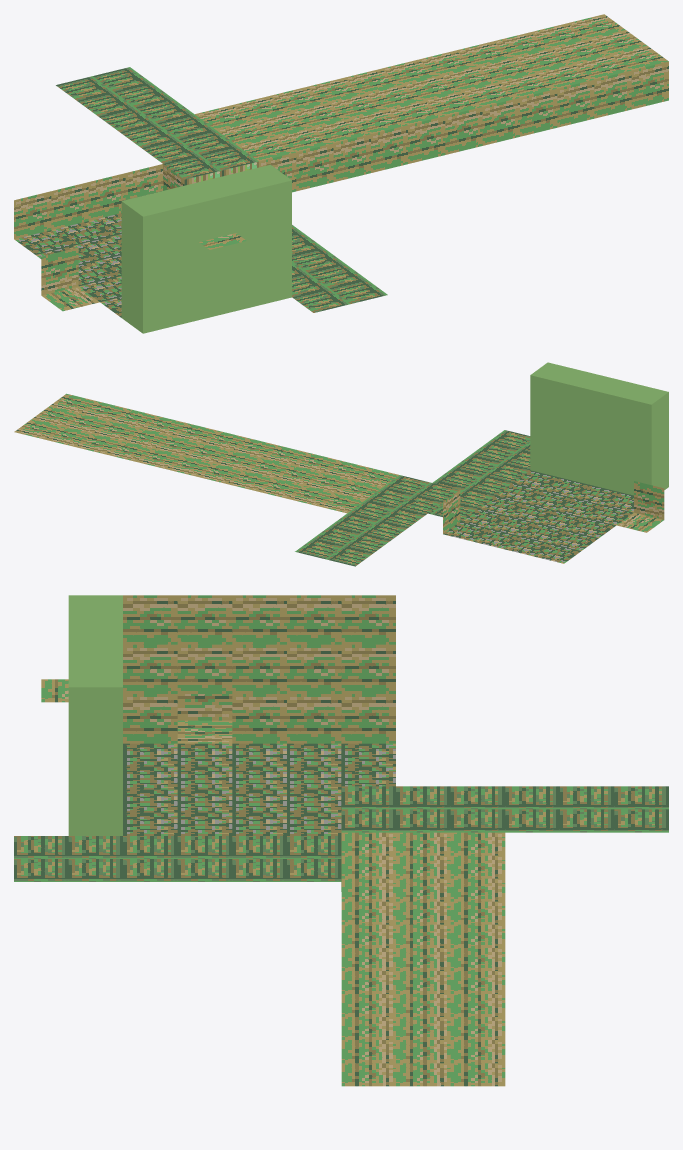
Rendered from CrocotileGLTFtest.gltf.
3 renders of one model, top to bottom at view 1: azimuth 30°, elevation 25°; view 2: azimuth 150°, elevation 25°; view 3: azimuth 270°, elevation 25°, orthographic. The views are drawn at different scales.
Bounding box in the file's own units: 18 × 3 × 12.
Materials: 1 (1 with a texture image).
